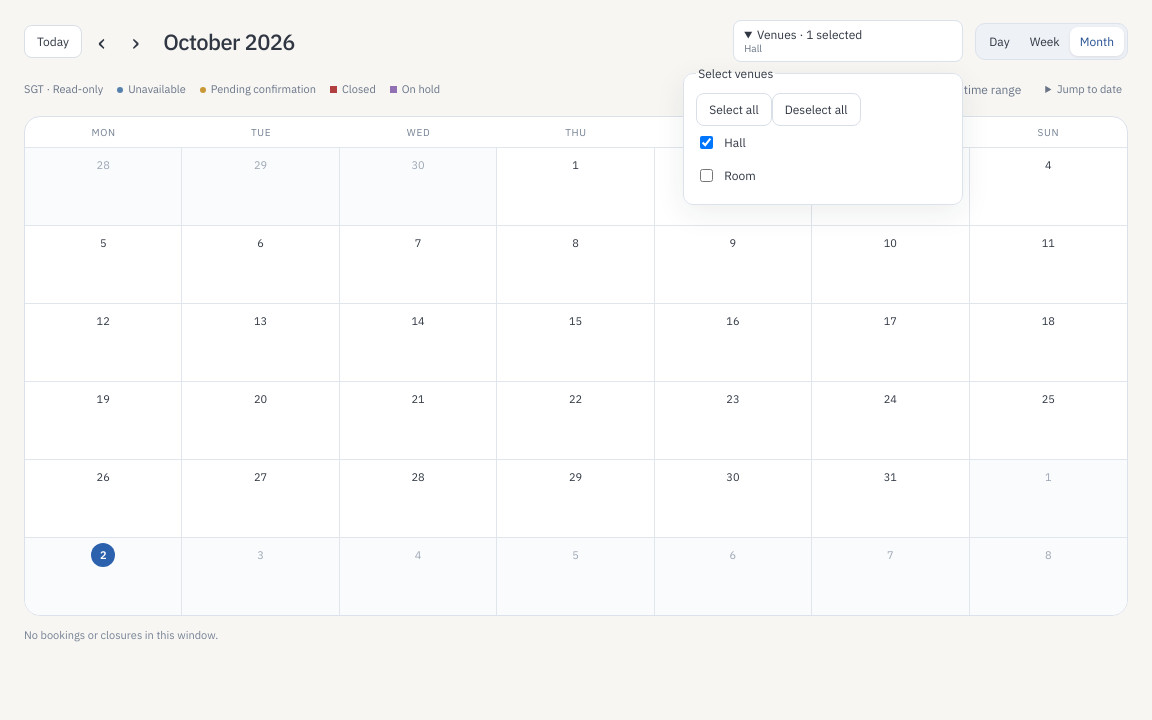
Test: bulk Deselect all clears a completed inspected result
Expected: the text "No bookings or closures in this window." is shown, 24,628 -> 218,642
Click the button "Inspect time range". click: (970, 89)
box: 914,76 -> 1027,102
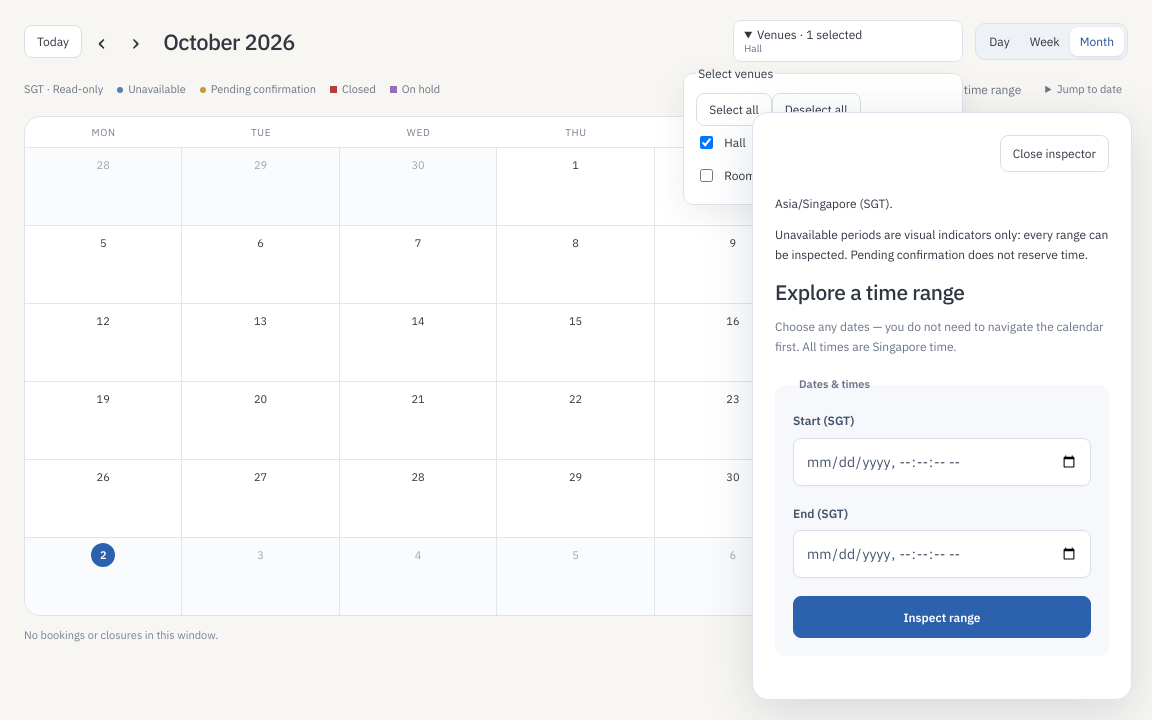
Type "2027-02-10T09:00" into the field labelled "Start (SGT)". click: (942, 462)
box: 793,438 -> 1091,486
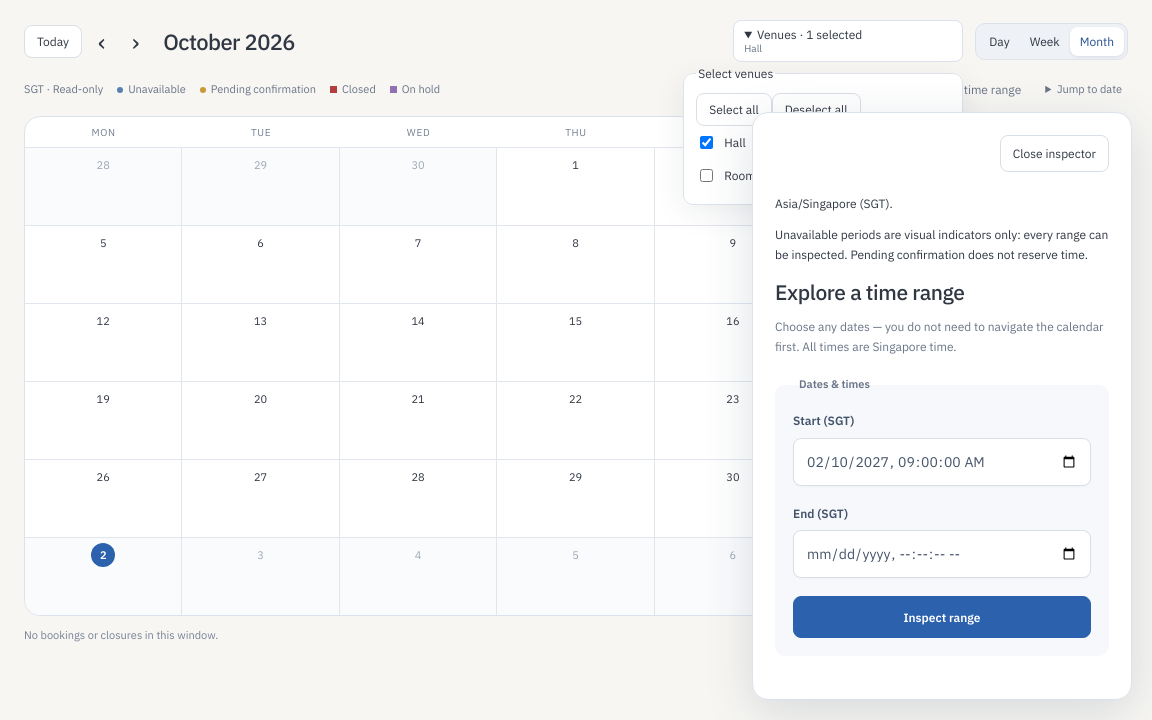
Type "2027-02-11T00:00" into the field labelled "End (SGT)". click: (942, 554)
box: 793,530 -> 1091,578
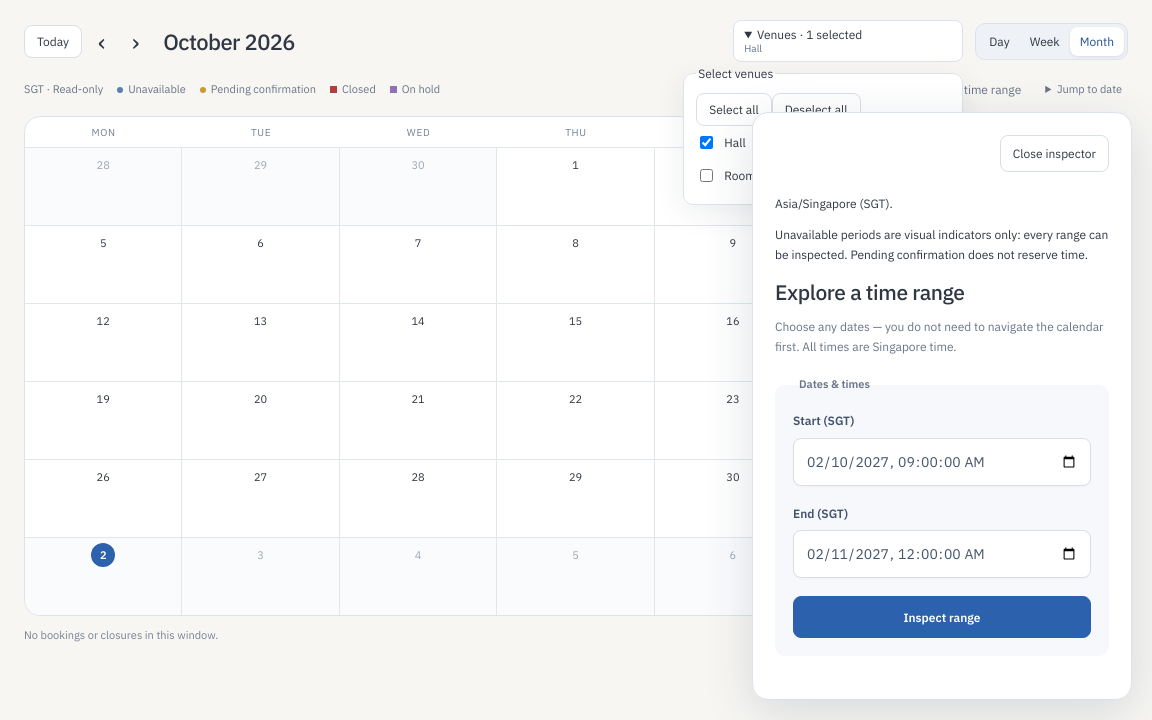
Click the button "Inspect range". click: (942, 618)
box: 793,596 -> 1091,638
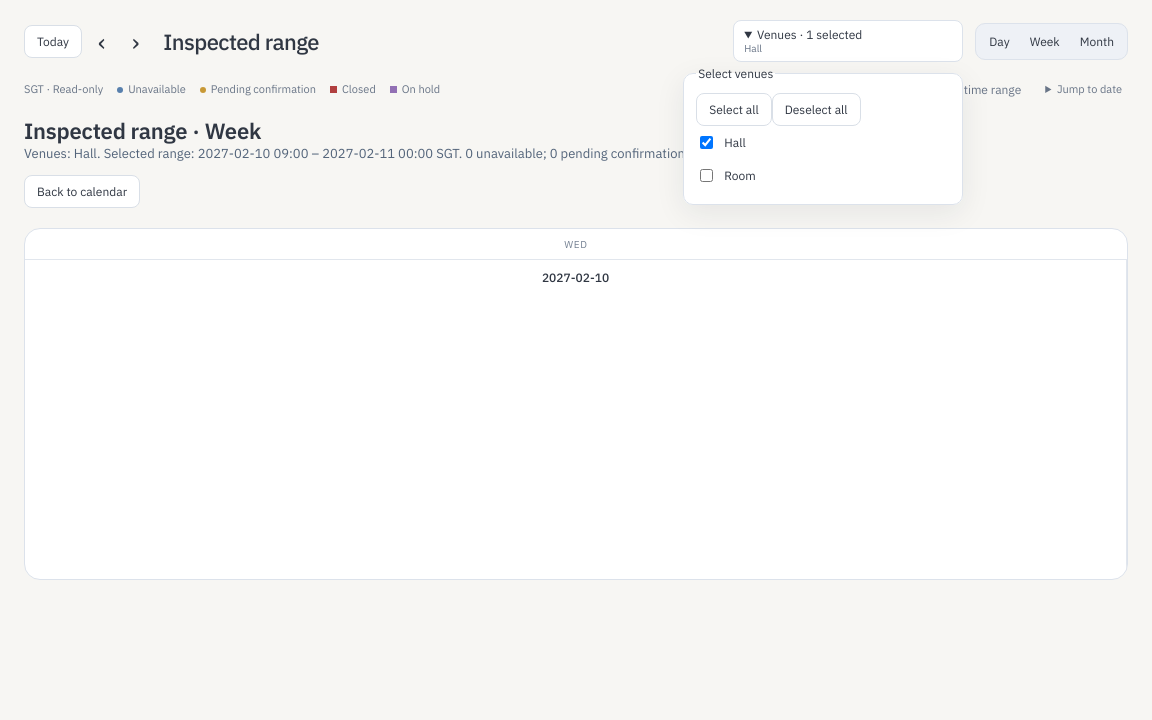
Result: the element "Inspected range · Week" is shown
Click the button "Deselect all". click: (816, 110)
box: 772,93 -> 861,126
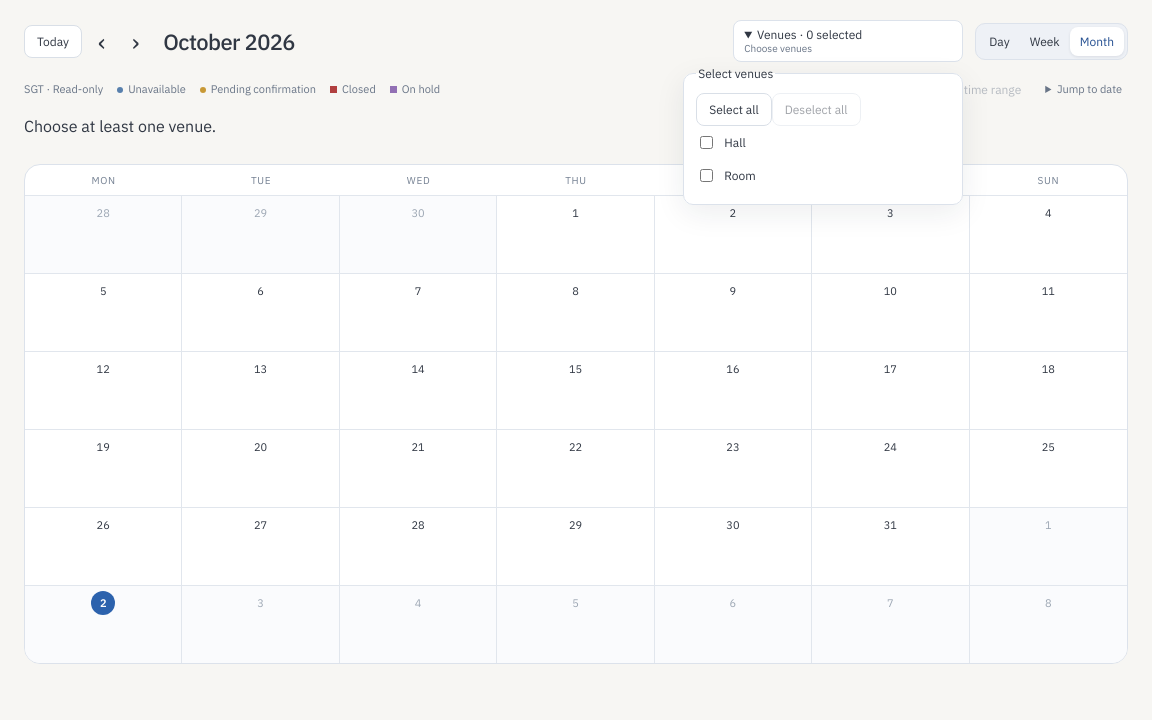
Result: the heading "Inspected range · Week" is gone
Result: the number of buttons named "Open " is 42
